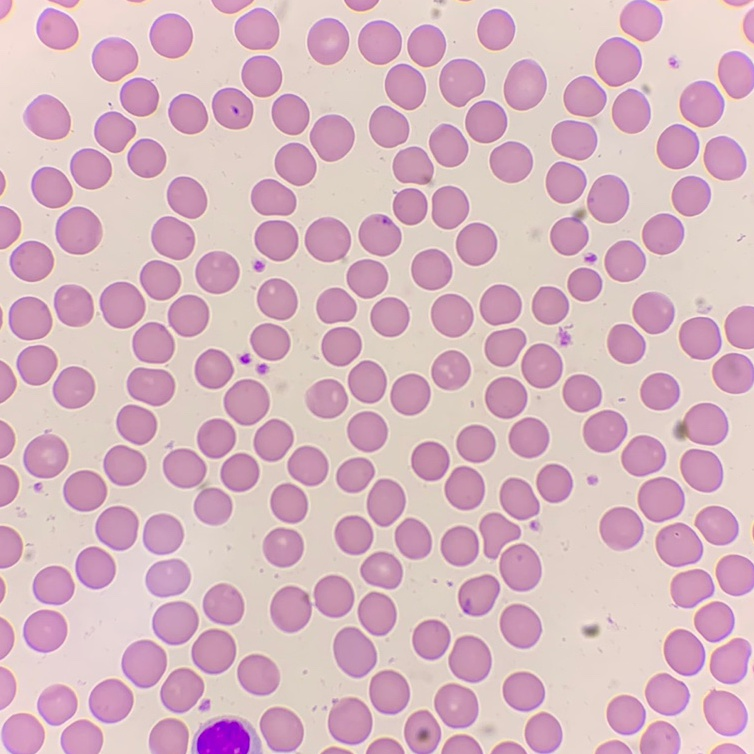RBC: (673, 403, 728, 444), (595, 37, 641, 85), (55, 207, 101, 253), (504, 59, 546, 109), (334, 627, 376, 677), (194, 716, 250, 753), (439, 59, 484, 105), (122, 640, 166, 687), (24, 95, 70, 139), (638, 477, 684, 521), (305, 217, 350, 261), (100, 282, 144, 327), (224, 379, 268, 424), (656, 523, 702, 566), (191, 629, 235, 673), (92, 37, 137, 80), (680, 81, 723, 126), (310, 115, 353, 160), (328, 698, 371, 743), (152, 602, 198, 644), (449, 636, 491, 682), (587, 175, 628, 222), (500, 544, 541, 591), (704, 691, 747, 735), (270, 586, 311, 632), (89, 679, 132, 722), (23, 435, 67, 477), (161, 668, 203, 712), (150, 14, 192, 57), (358, 21, 401, 63), (151, 217, 194, 259), (583, 410, 626, 452), (95, 506, 137, 549), (600, 507, 643, 549), (435, 684, 477, 727), (260, 708, 302, 751), (657, 124, 698, 168), (500, 604, 541, 648), (308, 18, 348, 63), (385, 64, 425, 109), (664, 630, 704, 675), (710, 638, 750, 683), (196, 251, 238, 293), (9, 297, 51, 339), (646, 673, 688, 715), (235, 8, 278, 49), (704, 136, 745, 179), (23, 610, 66, 651), (127, 368, 174, 405), (431, 294, 472, 336), (679, 317, 720, 359), (681, 449, 722, 491), (63, 471, 106, 511), (552, 120, 596, 159), (480, 513, 519, 557), (367, 479, 404, 525), (359, 214, 400, 255), (633, 292, 674, 333), (53, 367, 94, 408), (466, 100, 506, 142), (490, 142, 532, 182), (255, 220, 297, 260), (10, 241, 52, 281), (369, 671, 409, 713), (522, 344, 561, 387), (622, 436, 665, 475), (551, 209, 588, 254), (620, 0, 661, 40), (36, 9, 77, 49), (275, 143, 315, 184), (70, 148, 111, 188), (456, 223, 496, 264), (168, 295, 208, 336), (486, 377, 526, 418), (445, 467, 484, 509), (671, 569, 713, 608), (314, 575, 353, 617), (1, 714, 43, 753), (612, 89, 650, 132), (718, 51, 753, 97), (212, 88, 252, 128), (31, 167, 71, 207), (605, 241, 645, 281), (133, 322, 173, 362), (713, 353, 753, 393), (459, 575, 499, 615), (203, 584, 243, 624), (238, 655, 278, 695), (564, 76, 605, 115), (369, 106, 408, 147), (104, 446, 145, 485), (500, 478, 539, 519), (75, 547, 114, 588), (163, 449, 205, 487), (696, 506, 738, 544), (146, 559, 189, 596), (358, 592, 395, 635), (242, 56, 281, 96), (94, 112, 134, 151), (546, 162, 585, 202), (167, 177, 206, 217), (643, 214, 683, 253), (412, 249, 451, 289), (140, 260, 180, 299), (257, 279, 296, 319), (480, 285, 520, 324), (143, 514, 182, 554), (54, 285, 92, 326), (348, 361, 386, 402), (306, 379, 347, 417), (503, 672, 544, 710), (430, 124, 467, 166), (251, 179, 295, 214), (509, 418, 548, 457), (288, 446, 327, 485), (695, 602, 734, 641), (485, 328, 525, 366), (391, 374, 429, 414), (254, 420, 292, 460), (408, 25, 445, 66), (432, 186, 468, 228), (169, 94, 207, 133), (672, 176, 710, 215), (17, 346, 56, 384), (117, 405, 156, 443), (348, 412, 386, 451), (197, 419, 235, 458), (263, 528, 302, 566), (38, 685, 76, 724), (347, 260, 387, 297), (716, 555, 753, 595), (33, 566, 73, 603), (405, 711, 440, 753), (322, 327, 360, 365), (607, 696, 645, 734), (441, 526, 478, 565), (478, 9, 514, 49), (272, 94, 308, 134), (395, 518, 431, 558), (361, 552, 401, 588), (120, 78, 158, 115), (128, 139, 165, 177), (371, 298, 408, 336), (195, 350, 232, 388), (432, 351, 469, 389), (221, 453, 258, 491), (335, 516, 372, 554), (393, 147, 432, 183), (413, 620, 449, 659), (525, 713, 561, 752), (194, 487, 231, 524), (608, 324, 644, 362), (641, 373, 679, 409), (563, 375, 601, 411), (412, 442, 448, 480), (271, 484, 307, 522), (457, 425, 494, 461), (251, 324, 289, 359), (61, 721, 102, 753), (532, 287, 568, 323), (317, 288, 355, 322), (537, 464, 571, 502), (149, 719, 187, 753), (640, 722, 680, 753), (337, 458, 373, 492), (393, 188, 426, 224), (725, 306, 753, 348), (568, 268, 601, 300), (0, 526, 21, 567), (0, 206, 20, 248), (0, 465, 18, 505), (442, 735, 481, 753), (0, 668, 15, 707), (0, 362, 15, 400), (367, 738, 402, 753), (0, 619, 13, 657), (0, 422, 14, 456), (213, 0, 248, 12), (597, 741, 629, 753), (493, 742, 524, 753), (743, 10, 753, 40), (346, 0, 375, 10), (714, 744, 742, 753), (582, 624, 599, 637), (0, 0, 11, 16), (252, 740, 261, 753), (59, 0, 75, 6), (483, 726, 493, 735), (561, 334, 570, 343), (729, 0, 745, 5), (326, 748, 342, 753), (255, 261, 263, 269), (0, 584, 4, 595), (0, 178, 4, 188)
